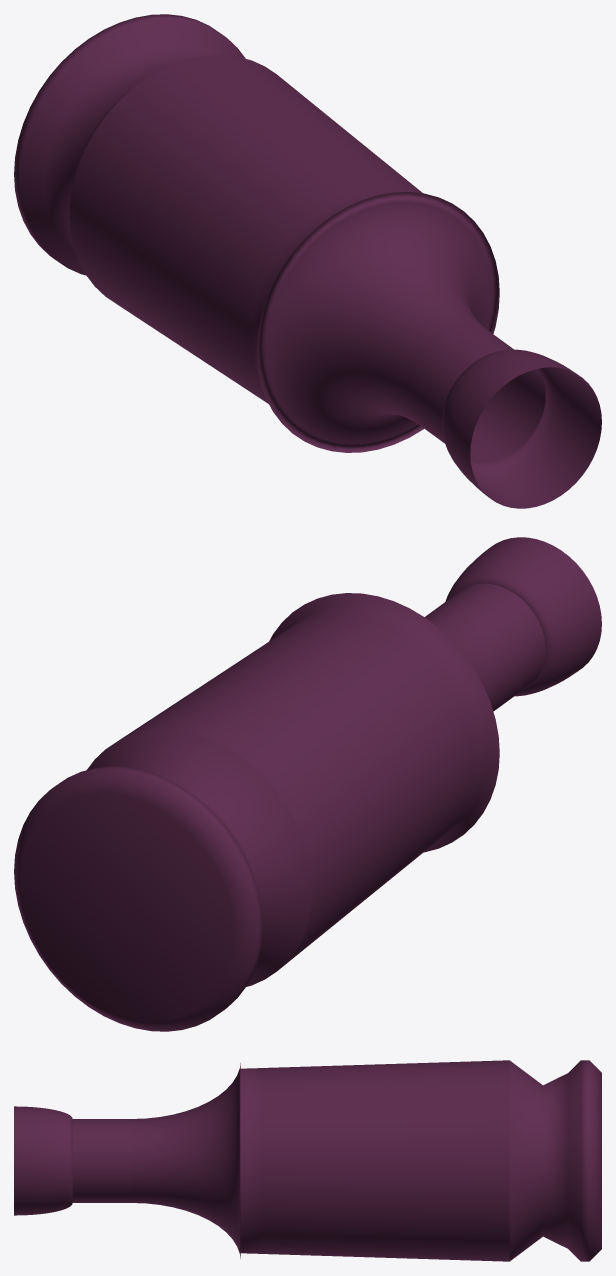
File: carafe.obj
3 renders of one model, top to bottom at view 1: azimuth 30°, elevation 25°; view 2: azimuth 150°, elevation 25°; view 3: azimuth 270°, elevation 25°, orthographic. The views are drawn at different scales.
Bounding box in the file's own units: 0.048 × 0.048 × 0.14.
